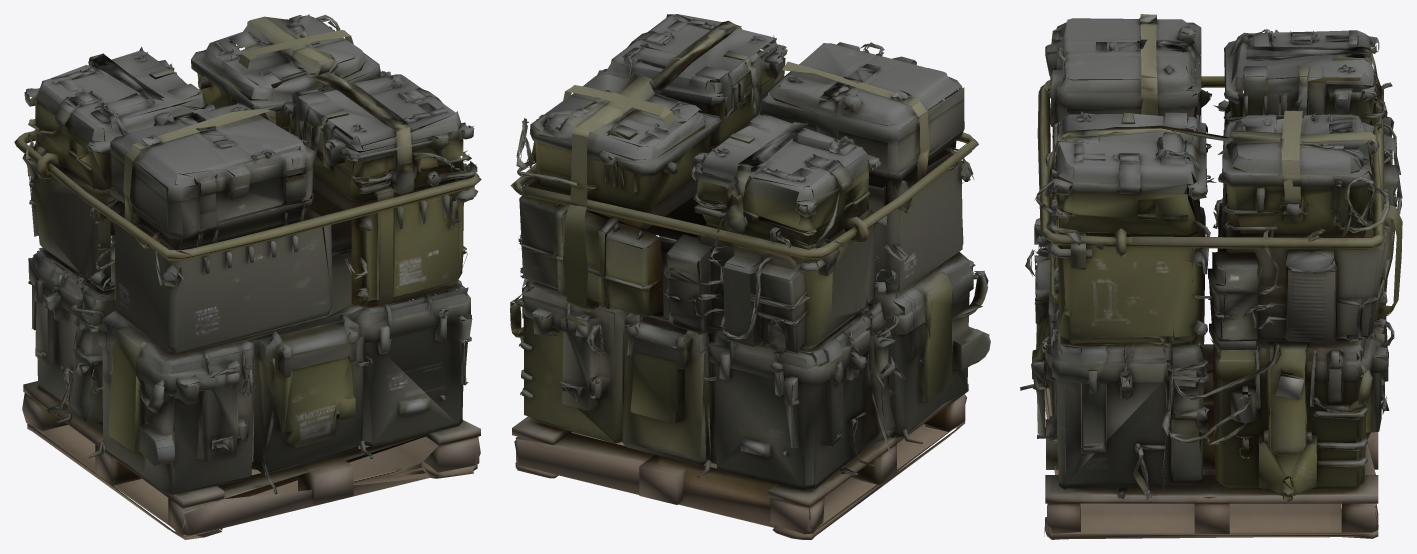
The model's file is ch4_meridian_crate_stack_LOD1.glb.
The picture shows the model from 3 angles, left to right: view 1: azimuth 30°, elevation 25°; view 2: azimuth 150°, elevation 25°; view 3: azimuth 270°, elevation 25°; orthographic projection. The views are drawn at different scales.
Visible parts, largest first — view 1: tripo_node_f5c4e4e8-3376-4078-b9fc-911eb14a894c; view 2: tripo_node_f5c4e4e8-3376-4078-b9fc-911eb14a894c; view 3: tripo_node_f5c4e4e8-3376-4078-b9fc-911eb14a894c.
Part boxes in pixels (x1,y1,x2,y2): tripo_node_f5c4e4e8-3376-4078-b9fc-911eb14a894c: [14, 14, 481, 539]; tripo_node_f5c4e4e8-3376-4078-b9fc-911eb14a894c: [510, 14, 990, 539]; tripo_node_f5c4e4e8-3376-4078-b9fc-911eb14a894c: [1020, 14, 1402, 539].
Size of the model in its own units: 0.9961 by 0.999 by 0.8966.
1 material, 1 textured.
